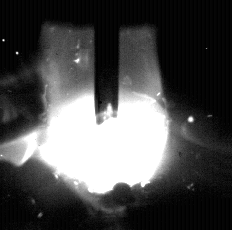arame: (95, 0, 120, 125)
poca: (38, 0, 167, 230)
